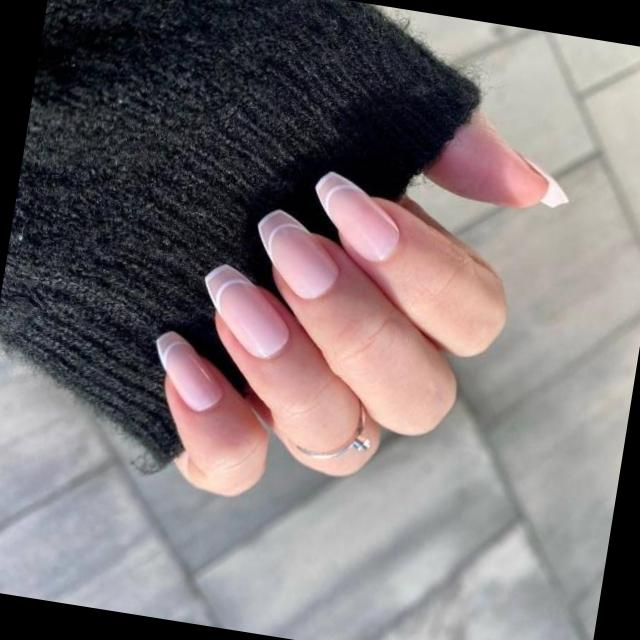Nail: (205, 265, 288, 359), (315, 172, 398, 262), (258, 209, 338, 299), (156, 332, 221, 412)
